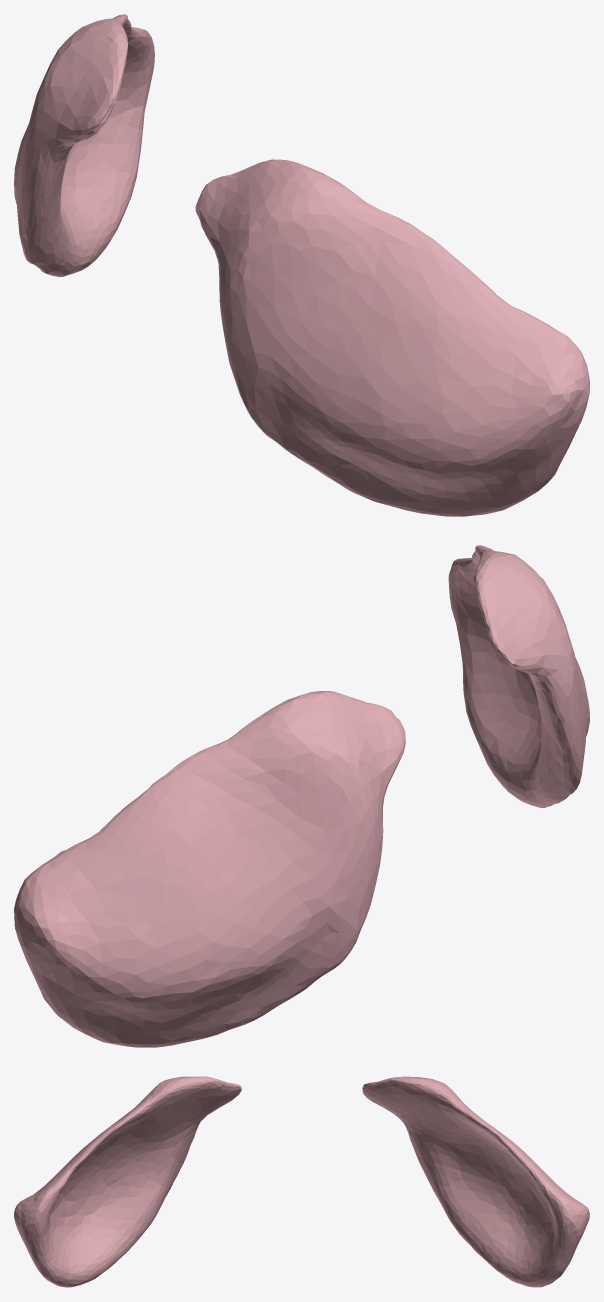
The picture shows the model from 3 angles, top to bottom: view 1: azimuth 30°, elevation 25°; view 2: azimuth 150°, elevation 25°; view 3: azimuth 270°, elevation 25°; orthographic projection. The views are drawn at different scales.
Parts seen in each view (by area): view 1: 262.obj; view 2: 262.obj; view 3: 262.obj.
Part boxes in pixels (left/top/right/bottom): 262.obj: left=14, top=14, right=589, bottom=516; 262.obj: left=14, top=545, right=589, bottom=1047; 262.obj: left=14, top=1076, right=589, bottom=1287.
Size of the model in its own units: 1689 by 2024 by 5680.
